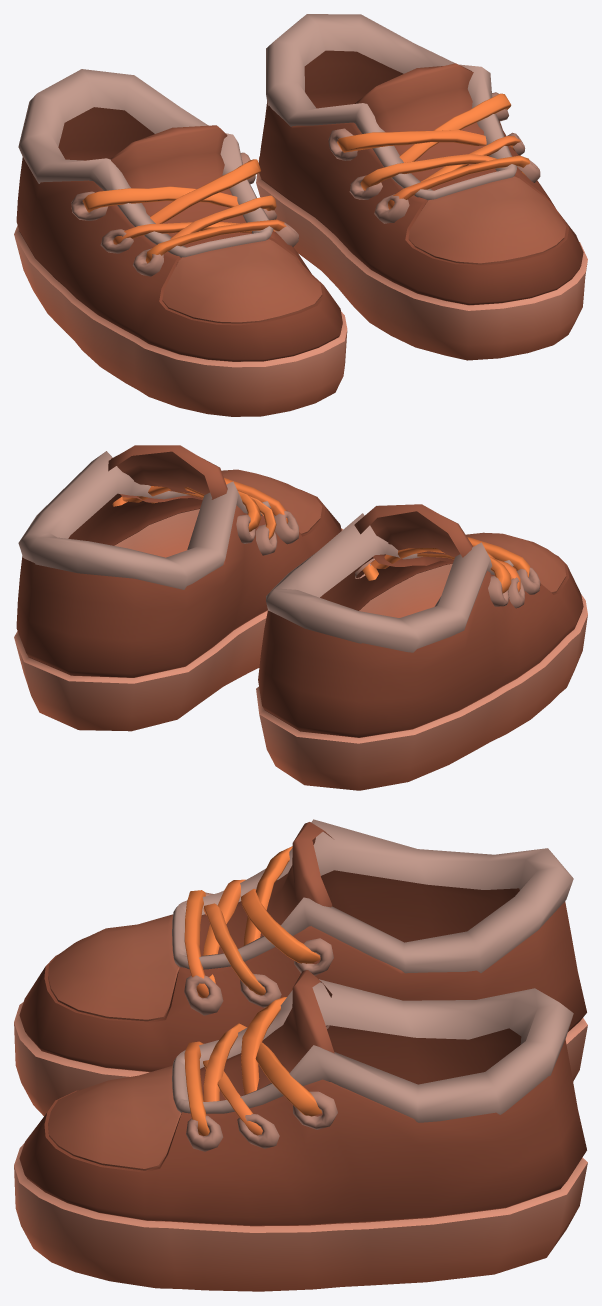
File: Shoe_Sneakers_09.glb
The picture shows the model from 3 angles, top to bottom: view 1: azimuth 30°, elevation 25°; view 2: azimuth 150°, elevation 25°; view 3: azimuth 270°, elevation 25°; orthographic projection. The views are drawn at different scales.
Parts seen in each view (by area): view 1: Shoe_Sneakers_09; view 2: Shoe_Sneakers_09; view 3: Shoe_Sneakers_09.
Part boxes in pixels (x1,y1,x2,y2): Shoe_Sneakers_09: [14, 14, 587, 416]; Shoe_Sneakers_09: [14, 445, 587, 790]; Shoe_Sneakers_09: [14, 819, 587, 1291].
Size of the model in its own units: 0.2496 by 0.1074 by 0.2225.
Materials: 1 (1 with a texture image).
